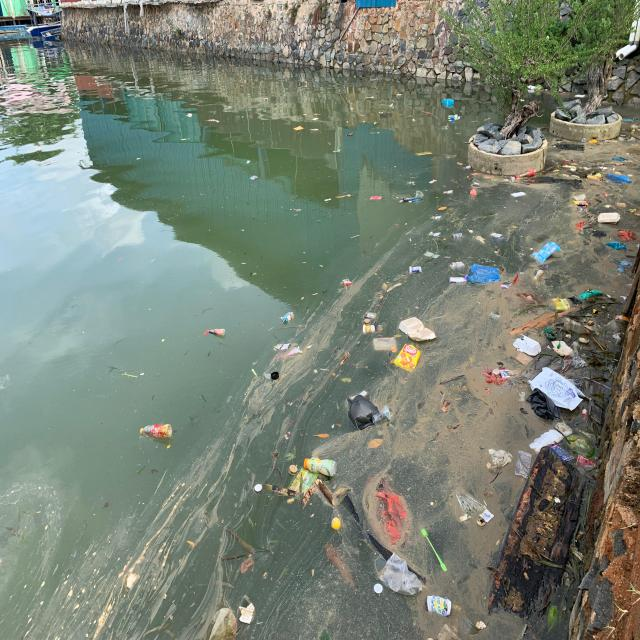Botol Plastik: (304, 457, 340, 478), (140, 423, 174, 442), (565, 317, 592, 338), (514, 169, 539, 180), (205, 329, 228, 339), (270, 371, 281, 382)
Bungkus Makanan: (399, 316, 440, 346), (395, 344, 422, 375), (513, 334, 544, 357), (598, 213, 622, 226), (553, 298, 572, 312)
Bungkus Minuman: (427, 595, 455, 619), (372, 405, 393, 426), (573, 193, 590, 204), (363, 325, 377, 336), (410, 265, 424, 276), (453, 233, 465, 241), (416, 191, 425, 201)
Kantong Plastik: (379, 554, 425, 599), (377, 487, 414, 542), (526, 389, 564, 425), (346, 395, 380, 430), (468, 262, 502, 287), (483, 366, 508, 390), (515, 449, 533, 481), (608, 173, 635, 188), (605, 240, 628, 257), (442, 98, 457, 109)
